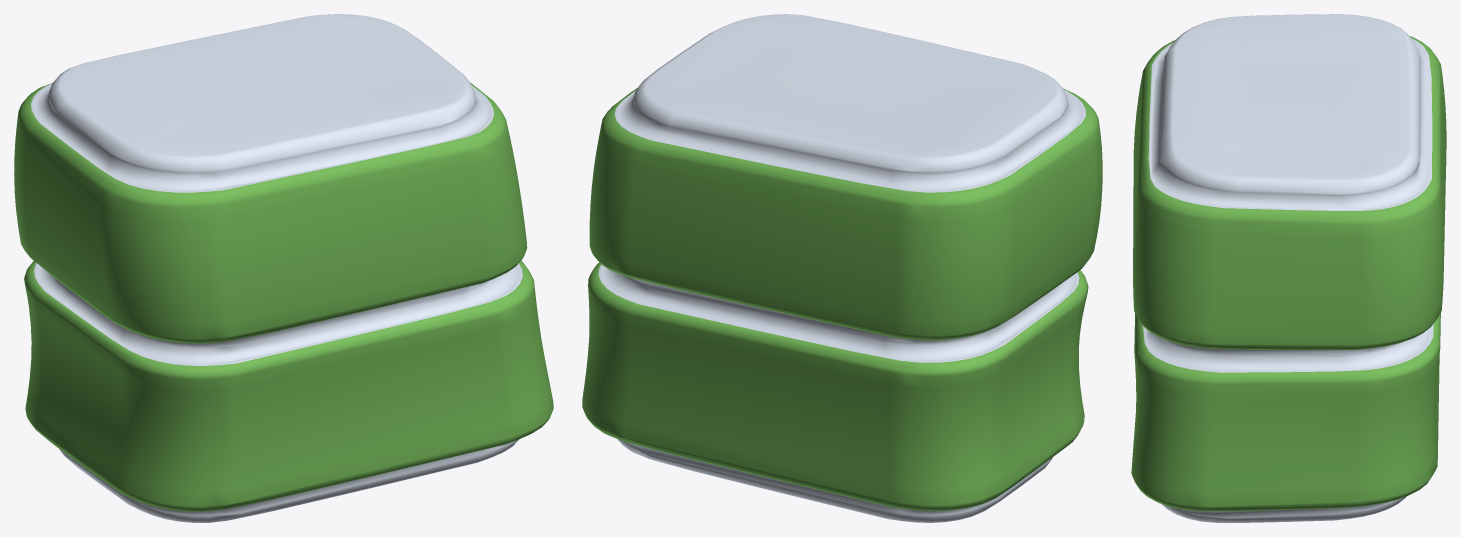
Rendered from SM_Building_03_Version_01_Part_03.fbx.
3 renders of one model, left to right at view 1: azimuth 30°, elevation 25°; view 2: azimuth 150°, elevation 25°; view 3: azimuth 270°, elevation 25°, orthographic. The views are drawn at different scales.
Parts seen in each view (by area): view 1: SM_Building_03_Version_01_Part_03; view 2: SM_Building_03_Version_01_Part_03; view 3: SM_Building_03_Version_01_Part_03.
Boxes of the visible parts, bbox=[...] form: SM_Building_03_Version_01_Part_03: bbox=[14, 14, 553, 522]; SM_Building_03_Version_01_Part_03: bbox=[582, 14, 1102, 522]; SM_Building_03_Version_01_Part_03: bbox=[1131, 14, 1446, 522].
Bounding box in the file's own units: 4711 × 3822 × 3177.
